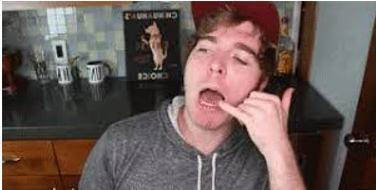Drunk: (187, 26, 257, 129)
